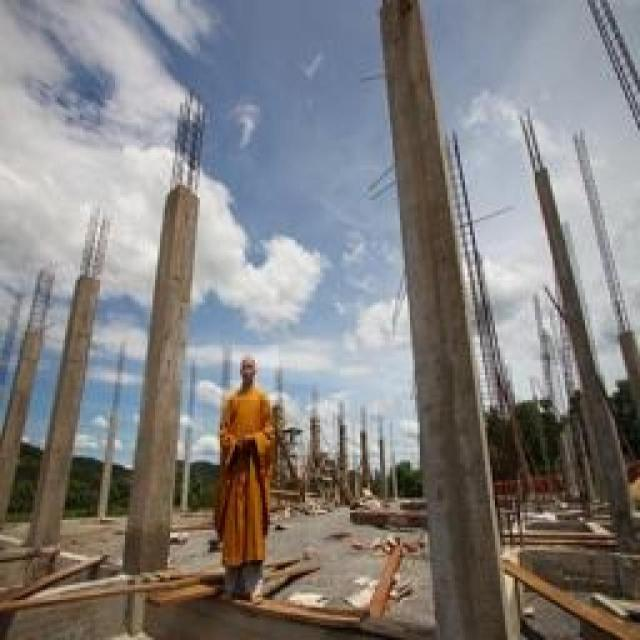Helmet: (202, 384, 308, 557), (228, 345, 278, 400)
